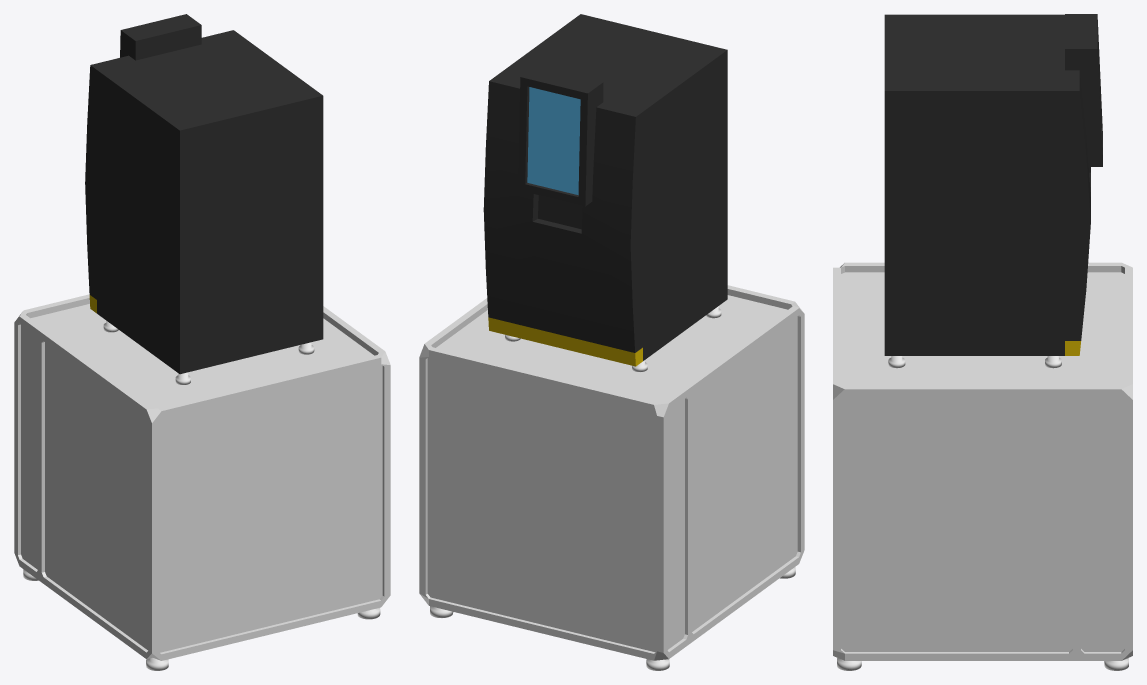
Rendered from Mesin Kopi.fbx.
3 renders of one model, left to right at view 1: azimuth 30°, elevation 25°; view 2: azimuth 150°, elevation 25°; view 3: azimuth 270°, elevation 25°, orthographic. The views are drawn at different scales.
Parts seen in each view (by area): view 1: Cube.016, Cube.018, Cube.017, Cube.019, Cube.020, Cylinder.002; view 2: Cube.016, Cube.019, Cube.018, Cube.017, Cube.020; view 3: Cube.016, Cube.018, Cube.017, Cube.019, Cube.020, Cylinder.002.
Boxes of the visible parts, x1=… form: Cube.016: x1=21, y1=304, x2=382, y2=652; Cube.018: x1=97, y1=35, x2=323, y2=374; Cube.017: x1=14, y1=294, x2=390, y2=660; Cube.019: x1=85, y1=30, x2=239, y2=313; Cube.020: x1=120, y1=14, x2=201, y2=60; Cylinder.002: x1=23, y1=569, x2=380, y2=670; Cube.016: x1=427, y1=295, x2=797, y2=652; Cube.019: x1=483, y1=76, x2=642, y2=366; Cube.018: x1=496, y1=14, x2=727, y2=360; Cube.017: x1=419, y1=285, x2=804, y2=660; Cube.020: x1=518, y1=66, x2=603, y2=206; Cube.016: x1=841, y1=272, x2=1124, y2=651; Cube.018: x1=884, y1=14, x2=1064, y2=355; Cube.017: x1=833, y1=262, x2=1132, y2=660; Cube.019: x1=1065, y1=70, x2=1090, y2=355; Cube.020: x1=1065, y1=14, x2=1102, y2=166; Cylinder.002: x1=837, y1=658, x2=1128, y2=670.
Bounding box in the file's own units: 5.32 × 11.36 × 5.32.
